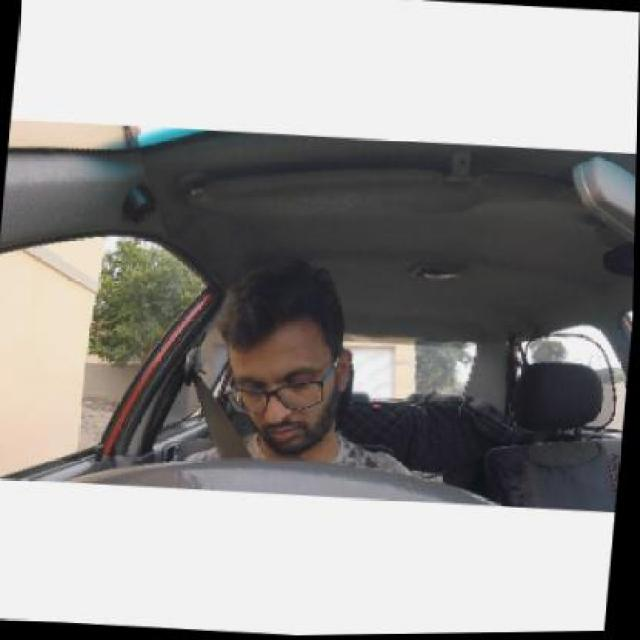drowsy: (193, 248, 363, 476)
